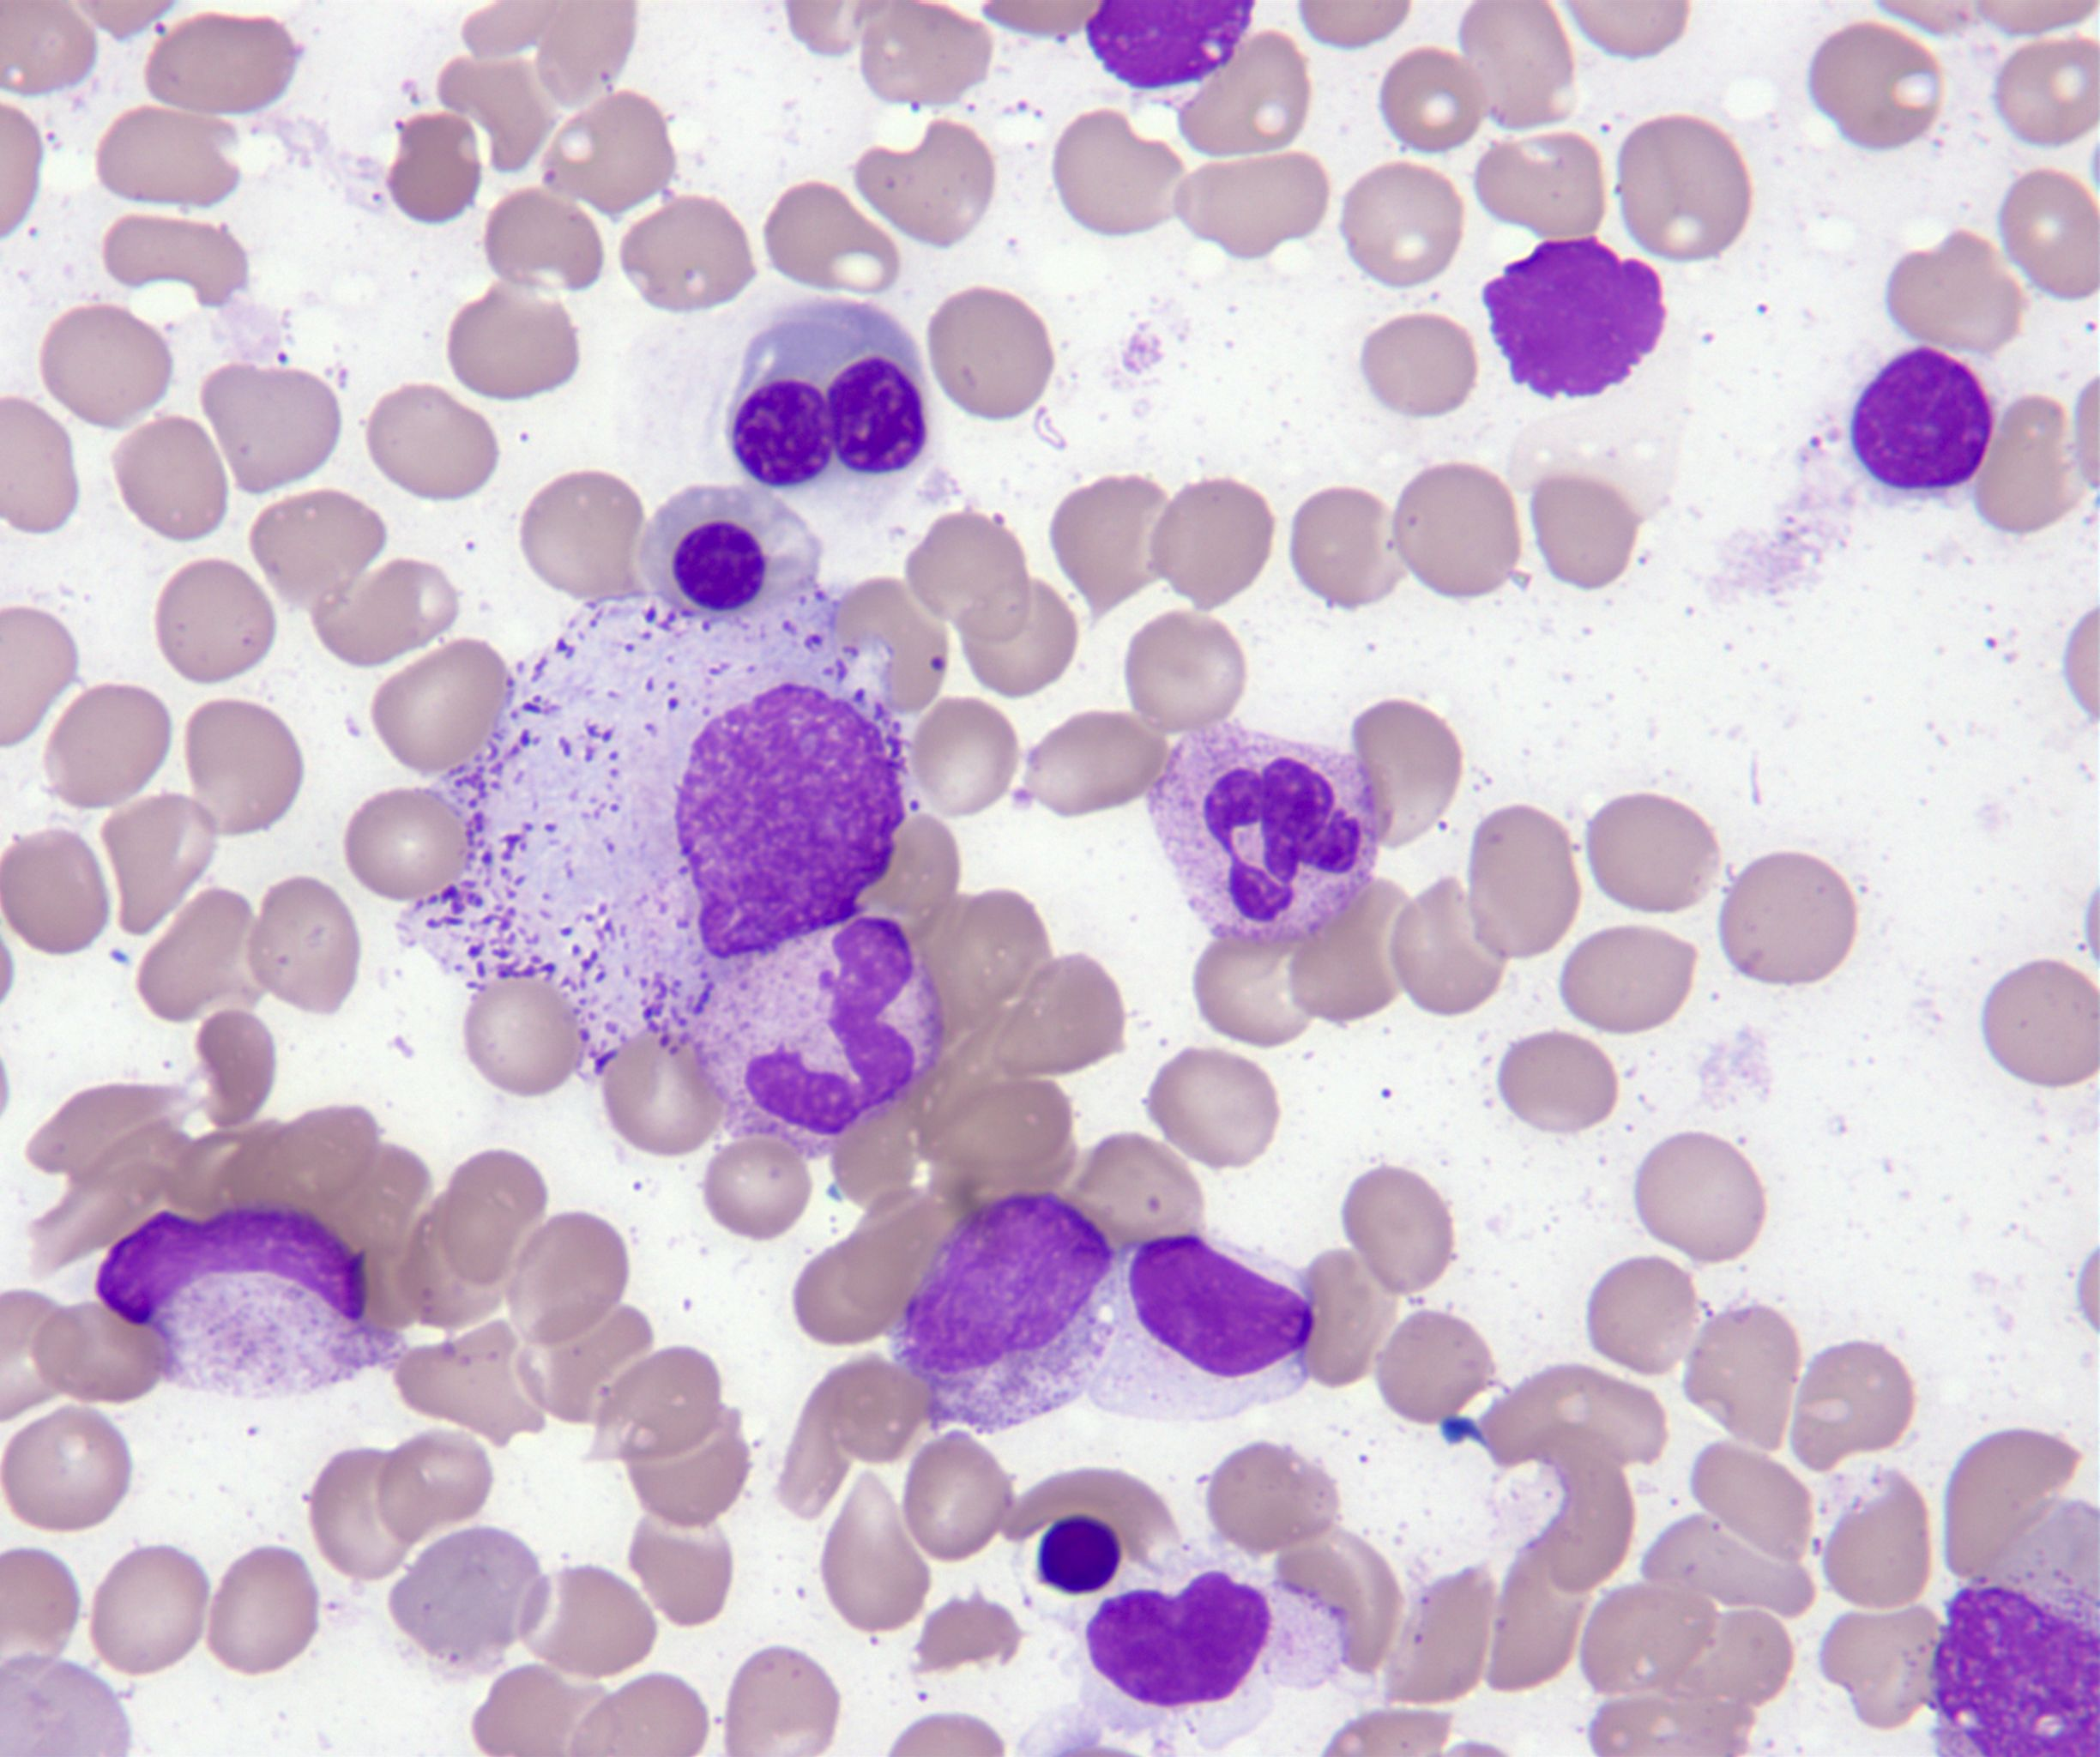24: (724, 300, 928, 499), (633, 483, 822, 625)
3: (891, 1192, 1120, 1436)
32: (1090, 1228, 1315, 1424)
4: (94, 1209, 408, 1396)
5: (684, 914, 944, 1159)
6: (1148, 724, 1390, 947)
x: (396, 593, 903, 1080), (1055, 1535, 1348, 1752), (1933, 1583, 2100, 1757), (1484, 237, 1666, 398), (1854, 349, 1992, 489), (1087, 2, 1256, 89), (1040, 1516, 1118, 1595)
